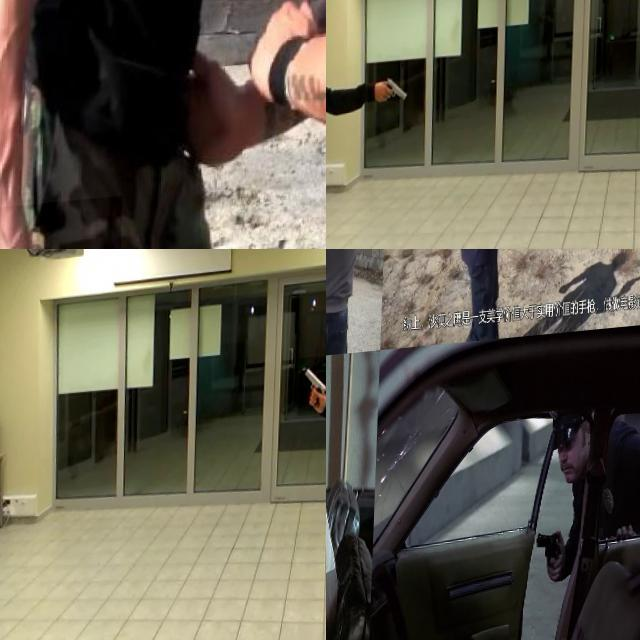gun-knife-thesis - v11 Yolov5 augmented: (538, 534, 575, 594), (371, 64, 411, 106), (300, 363, 326, 424), (503, 249, 545, 285), (326, 556, 344, 640), (326, 249, 333, 264)
